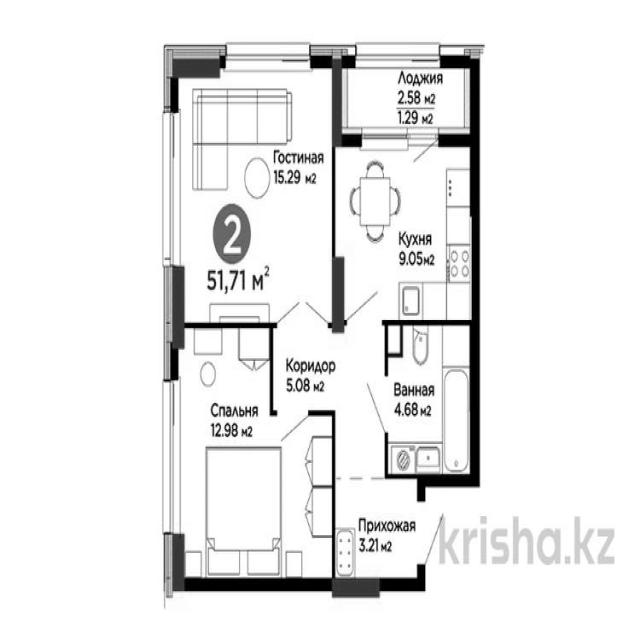balcony: (335, 55, 475, 144)
bathroom: (387, 323, 475, 477)
hallway: (272, 324, 387, 417), (334, 479, 421, 585)
kitchen: (173, 59, 334, 326), (332, 142, 479, 322)
living_room: (174, 326, 334, 588)
